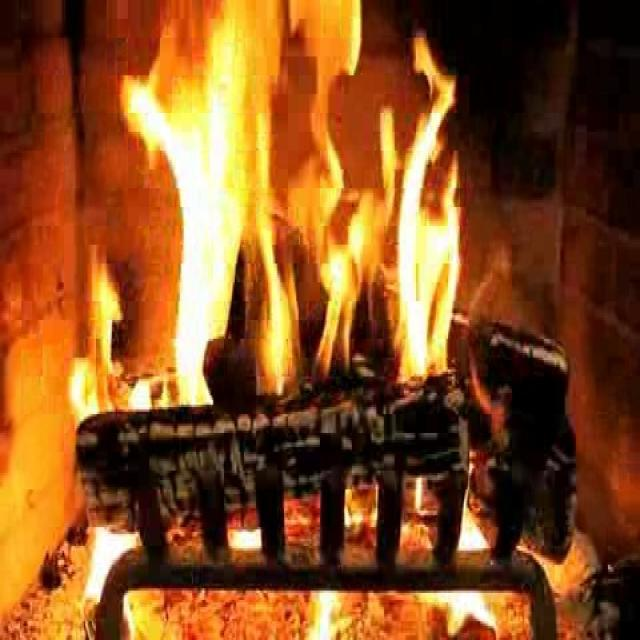Fire: (121, 10, 473, 412)
